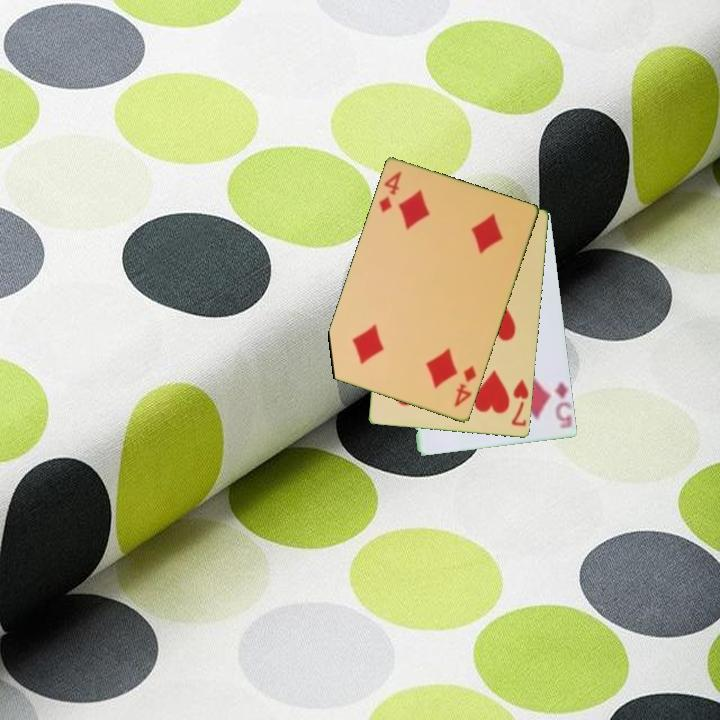4d: (375, 168, 405, 216), (451, 362, 480, 410)
5d: (552, 378, 573, 430)
7h: (508, 376, 532, 429)
